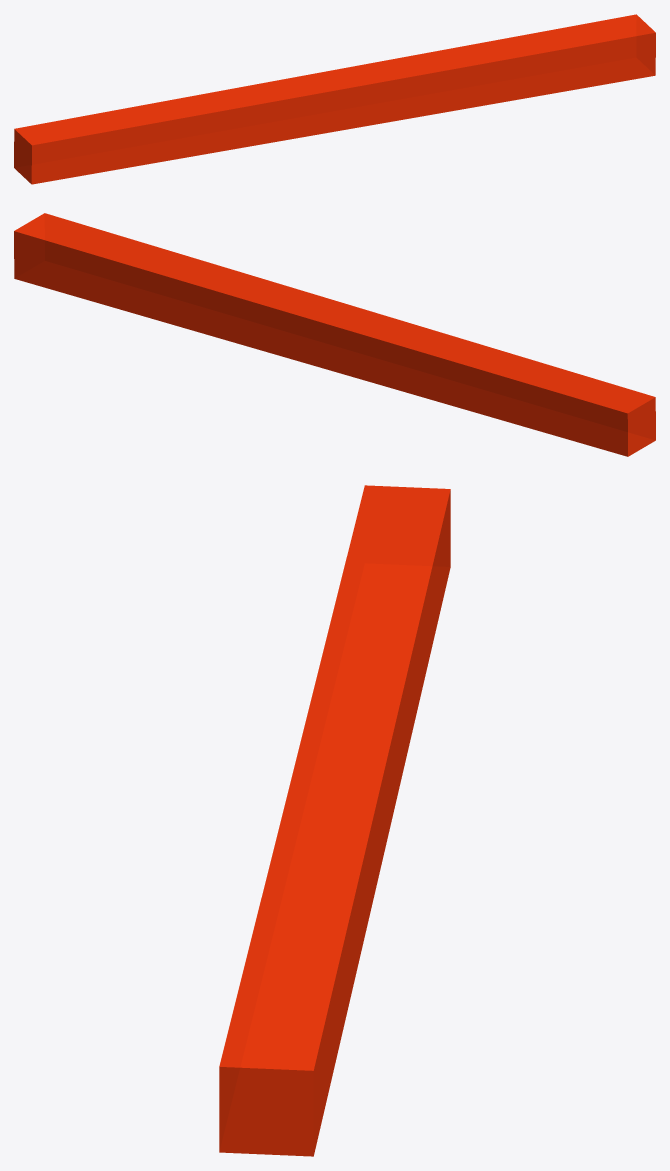
Rendered from Event_420094457_EErechit_49.fbx.
3 renders of one model, top to bottom at view 1: azimuth 30°, elevation 25°; view 2: azimuth 150°, elevation 25°; view 3: azimuth 270°, elevation 25°, orthographic. The views are drawn at different scales.
Visible parts, largest first — view 1: Model; view 2: Model; view 3: Model.
Part boxes in pixels (x1,y1,x2,y2): Model: [14, 14, 655, 184]; Model: [14, 213, 655, 456]; Model: [219, 485, 450, 1156].
Bounding box in the file's own units: 1.15 × 0.0871 × 0.1946.
